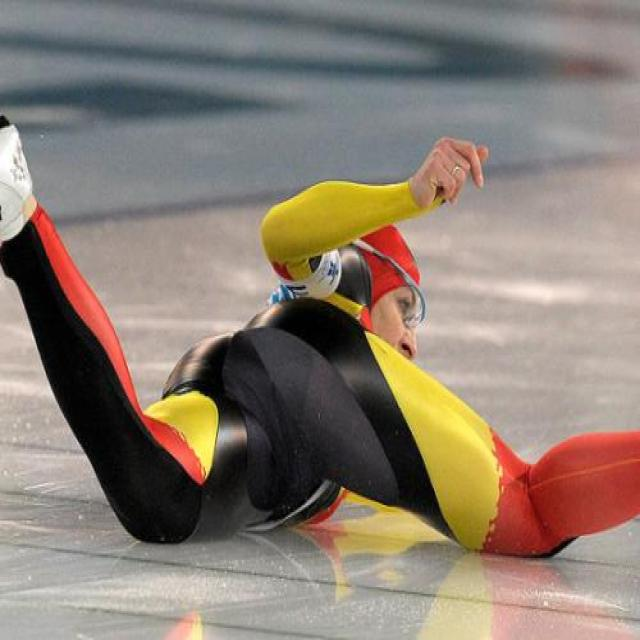fall: (0, 114, 636, 546)
